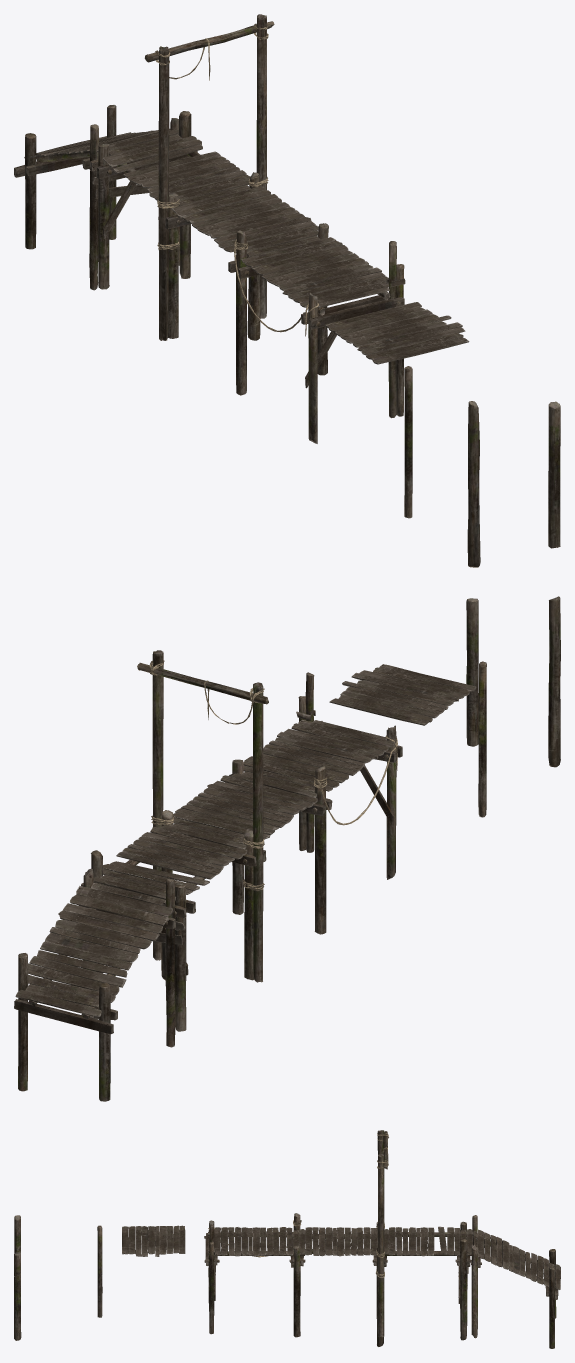
The model's file is pier_lite.glb.
3 renders of one model, top to bottom at view 1: azimuth 30°, elevation 25°; view 2: azimuth 150°, elevation 25°; view 3: azimuth 270°, elevation 25°, orthographic. The views are drawn at different scales.
Parts seen in each view (by area): view 1: modular_wooden_pier_section_01, modular_wooden_pier_section_03, modular_wooden_pier_section_02, modular_wooden_pier_section_05, modular_wooden_pier_section_04, modular_wooden_pier_poles, modular_wooden_pier_planks; view 2: modular_wooden_pier_section_04, modular_wooden_pier_section_01, modular_wooden_pier_section_03, modular_wooden_pier_section_02, modular_wooden_pier_section_05, modular_wooden_pier_poles, modular_wooden_pier_planks; view 3: modular_wooden_pier_section_01, modular_wooden_pier_section_04, modular_wooden_pier_section_03, modular_wooden_pier_section_02, modular_wooden_pier_planks, modular_wooden_pier_section_05, modular_wooden_pier_poles.
Part boxes in pixels (bbox=[...]): modular_wooden_pier_section_01: bbox=[228, 223, 405, 443]; modular_wooden_pier_section_03: bbox=[89, 111, 250, 289]; modular_wooden_pier_section_02: bbox=[158, 172, 318, 340]; modular_wooden_pier_section_05: bbox=[144, 14, 274, 340]; modular_wooden_pier_section_04: bbox=[14, 105, 179, 290]; modular_wooden_pier_poles: bbox=[404, 366, 560, 567]; modular_wooden_pier_planks: bbox=[325, 302, 469, 364]; modular_wooden_pier_section_04: bbox=[14, 868, 175, 1101]; modular_wooden_pier_section_01: bbox=[225, 672, 402, 934]; modular_wooden_pier_section_03: bbox=[81, 826, 247, 1031]; modular_wooden_pier_section_02: bbox=[160, 775, 317, 980]; modular_wooden_pier_section_05: bbox=[137, 650, 268, 982]; modular_wooden_pier_poles: bbox=[466, 596, 560, 817]; modular_wooden_pier_planks: bbox=[329, 664, 476, 725]; modular_wooden_pier_section_01: bbox=[204, 1213, 305, 1337]; modular_wooden_pier_section_04: bbox=[471, 1215, 560, 1348]; modular_wooden_pier_section_03: bbox=[376, 1221, 473, 1340]; modular_wooden_pier_section_02: bbox=[292, 1222, 389, 1346]; modular_wooden_pier_planks: bbox=[122, 1225, 185, 1256]; modular_wooden_pier_section_05: bbox=[375, 1130, 388, 1337]; modular_wooden_pier_poles: bbox=[14, 1215, 102, 1340].
Size of the model in its own units: 3.1 by 7.51 by 19.03.
3 materials, 3 textured.
